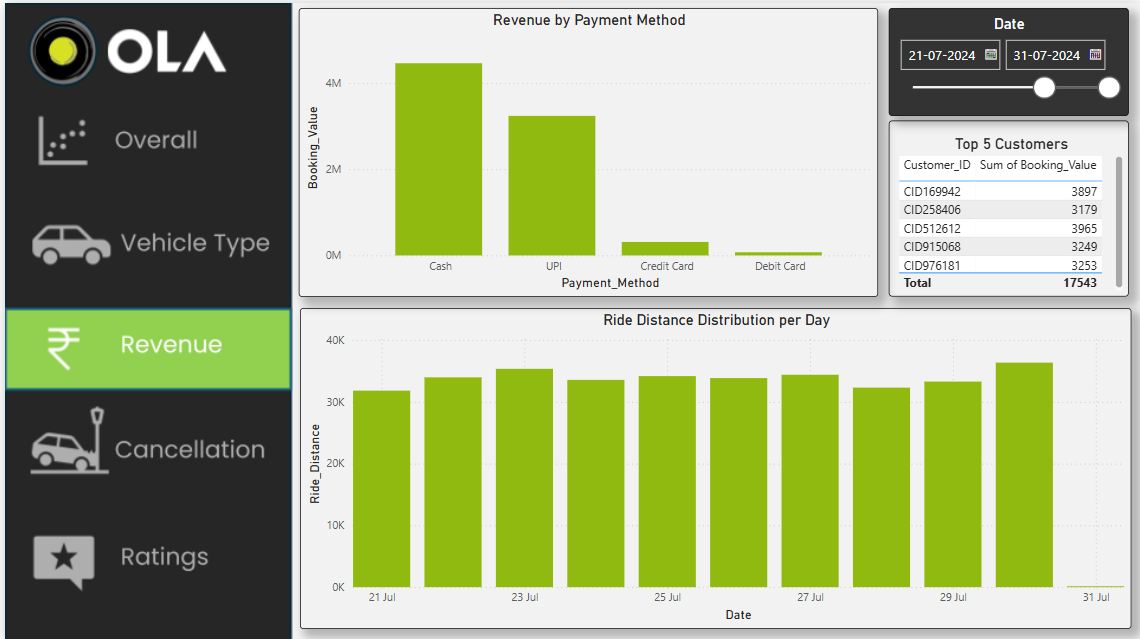

This screenshot's page, from the dashboard's own definition file:
{"tool":"powerbi","page":{"name":"revenue","canvas":[1280,720],"ordinal":2},"visuals":[{"type":"actionButton","box":[0,240,321.4,67.1],"z":0},{"type":"actionButton","box":[0,468.6,321.4,67.1],"z":1000},{"type":"actionButton","box":[0,595.7,321.4,68.6],"z":2000},{"type":"actionButton","box":[0,121.4,321.4,67.1],"z":3000},{"type":"clusteredColumnChart","title":"Revenue by Payment Method","fields":{"Y":["Sum(July.Booking_Value)"],"Category":["July.Payment_Method"]},"box":[331.4,5.7,652.9,325.7],"z":3001},{"type":"clusteredColumnChart","title":"Ride Distance Distribution per Day","fields":{"Y":["Sum(July.Ride_Distance)"],"Category":["July.Date"]},"box":[332.9,344.3,937.1,361.4],"z":3002},{"type":"slicer","title":"Date","fields":{"Values":["July.Date"]},"box":[995.7,5.7,270,121.4],"z":3003},{"type":"tableEx","title":"Top 5 Customers","fields":{"Values":["July.Customer_ID","Sum(July.Booking_Value)"]},"box":[995.7,132.9,270,198.6],"z":3004}]}

Visuals, with their boxes in screenshot pixels (x1, y1, x2, y2), scaled from the page's 1280x720 canvas onto the 1140x639 screenshot:
actionButton: (left=0, top=213, right=286, bottom=273)
actionButton: (left=0, top=416, right=286, bottom=475)
actionButton: (left=0, top=529, right=286, bottom=590)
actionButton: (left=0, top=108, right=286, bottom=167)
"Revenue by Payment Method" clusteredColumnChart: (left=295, top=5, right=877, bottom=294)
"Ride Distance Distribution per Day" clusteredColumnChart: (left=296, top=306, right=1131, bottom=626)
"Date" slicer: (left=887, top=5, right=1127, bottom=113)
"Top 5 Customers" tableEx: (left=887, top=118, right=1127, bottom=294)
